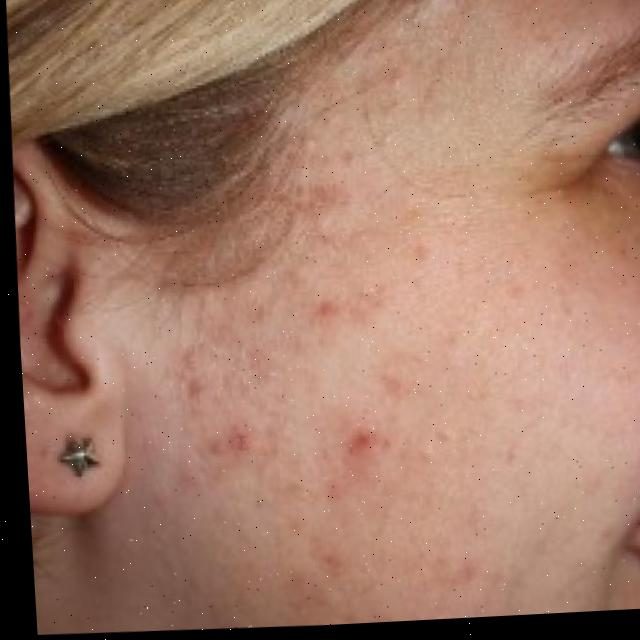Acne: (206, 253, 434, 630)
